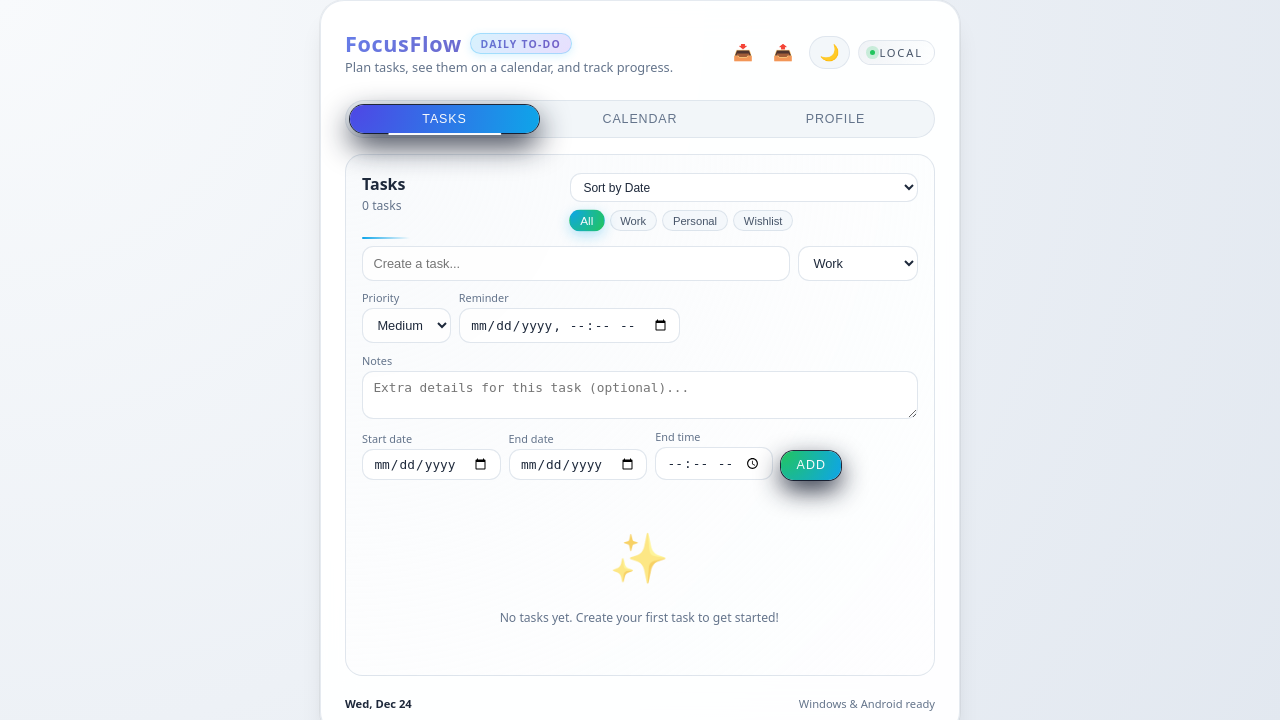
App › deletes a task
This screenshot has width=1280, height=720.
Type "Task to Delete" into the field with placeholder "Create a task..." at (576, 263), box [362,246,790,281]
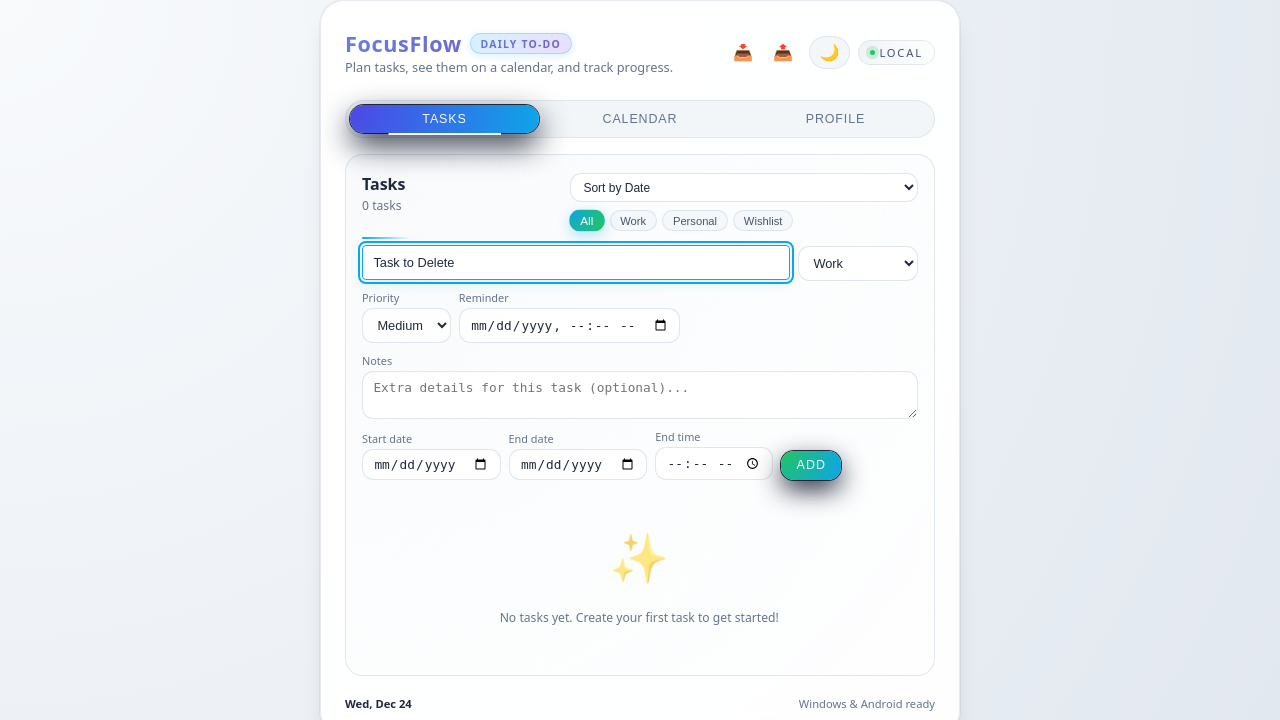
Click the button "Add" at (811, 465), box [781,451,841,480]
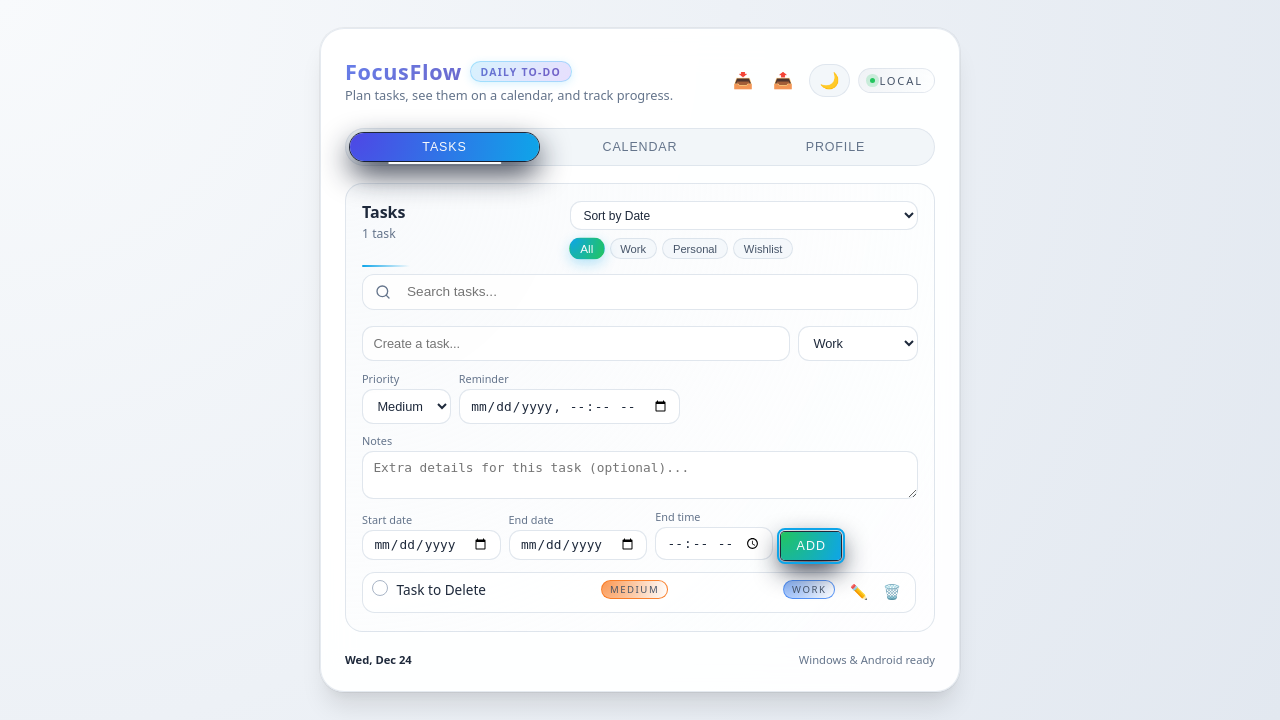
expect the text "Task to Delete" is shown: met, box [397,580,486,599]
# Delete the task
Click the button named "delete task: task to delete" at (892, 593), box [878,580,907,605]
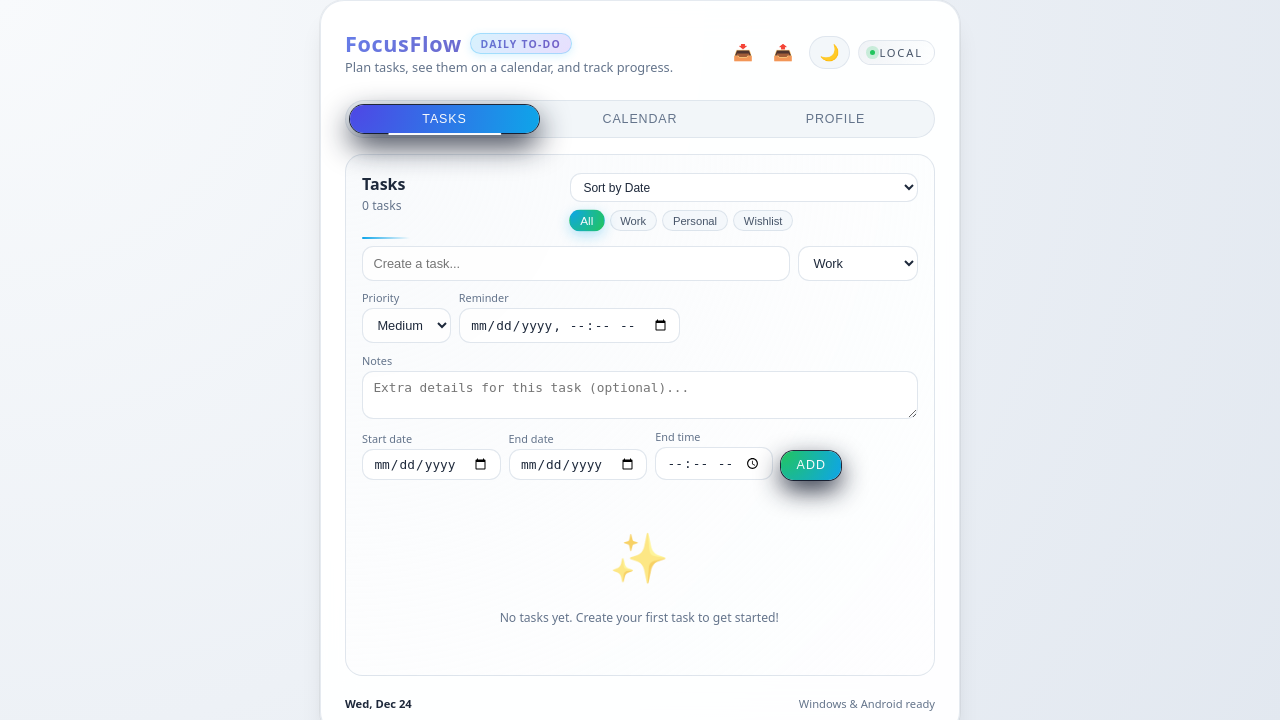
expect the text "Task to Delete" is gone: met
